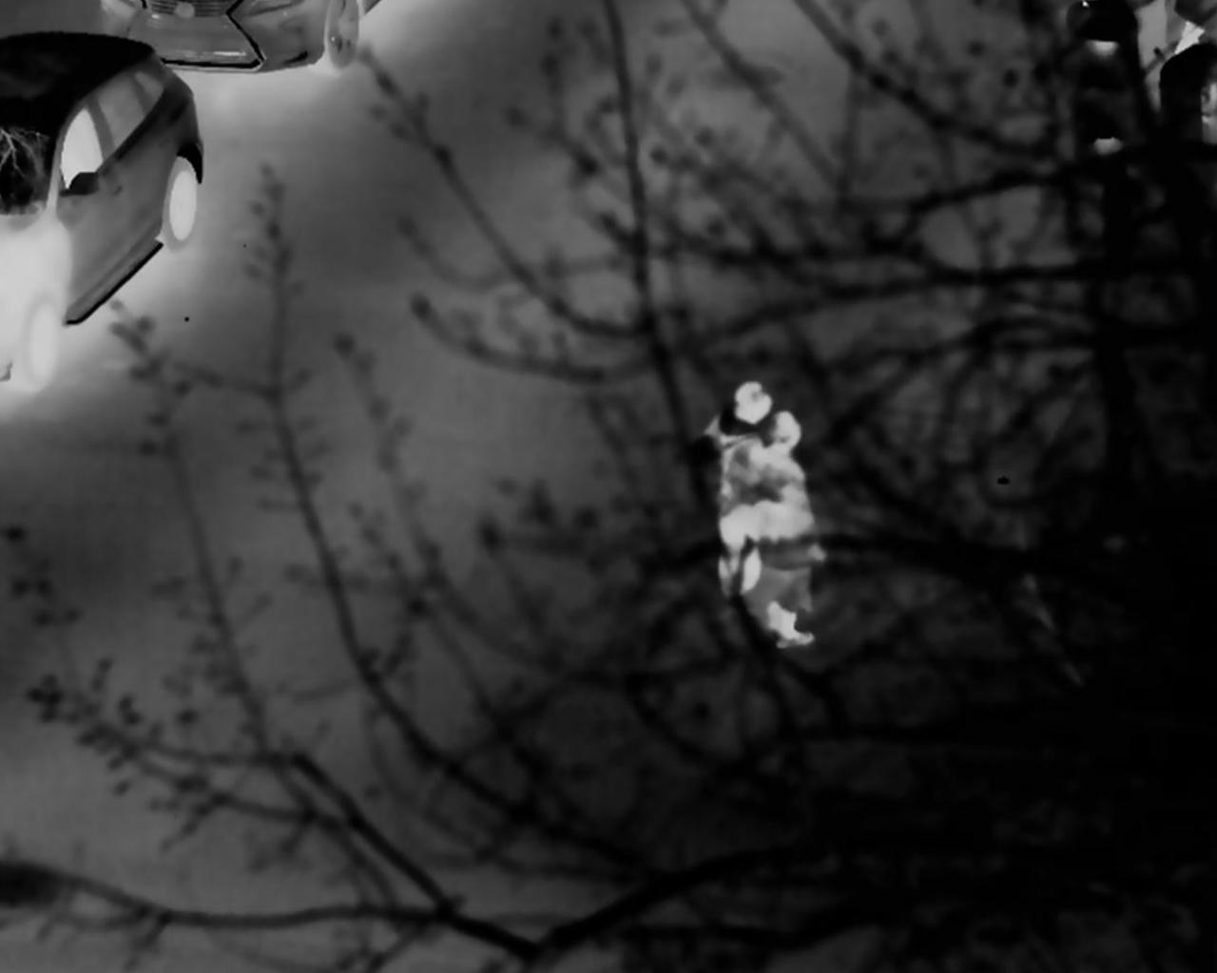person: (716, 385, 820, 638), (733, 411, 817, 656)
